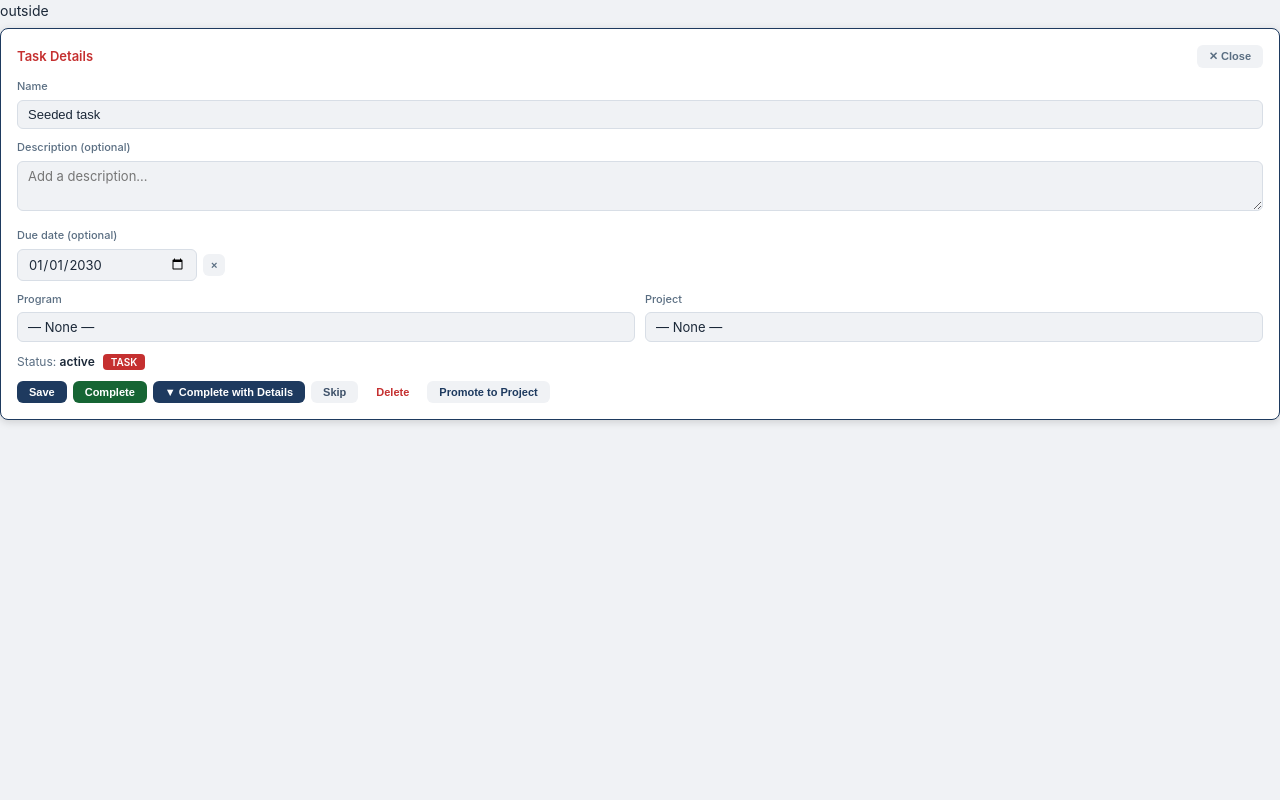
useInlineTask — inline task panel dirty-state close guard (Task 9.14) › Cancel from the confirm dialog keeps the panel open
Expected: the text "Task Details" is shown, [17,46,93,67]
Replace the text in the field named "Task name" with "Seeded task edited": (640, 114) [17,100,1263,129]
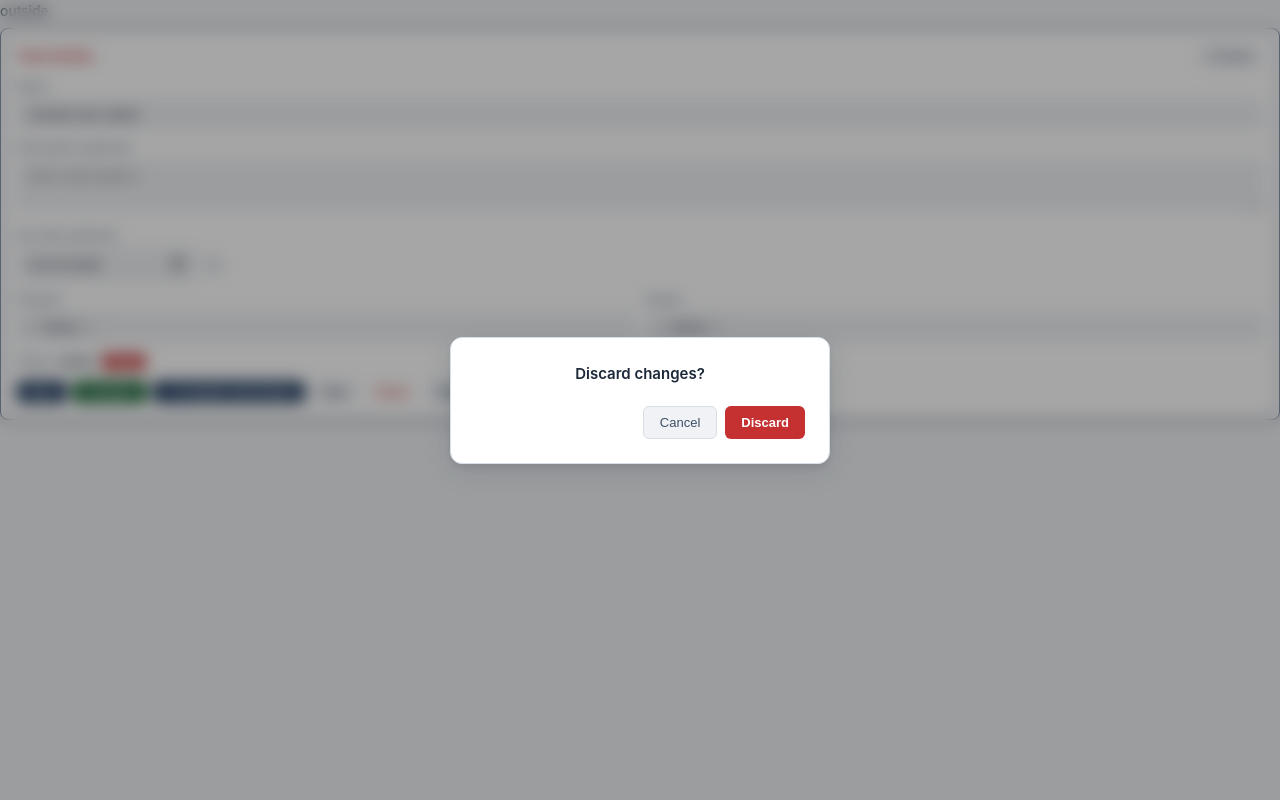
Click the button "Cancel": (680, 422) [643,406,717,438]
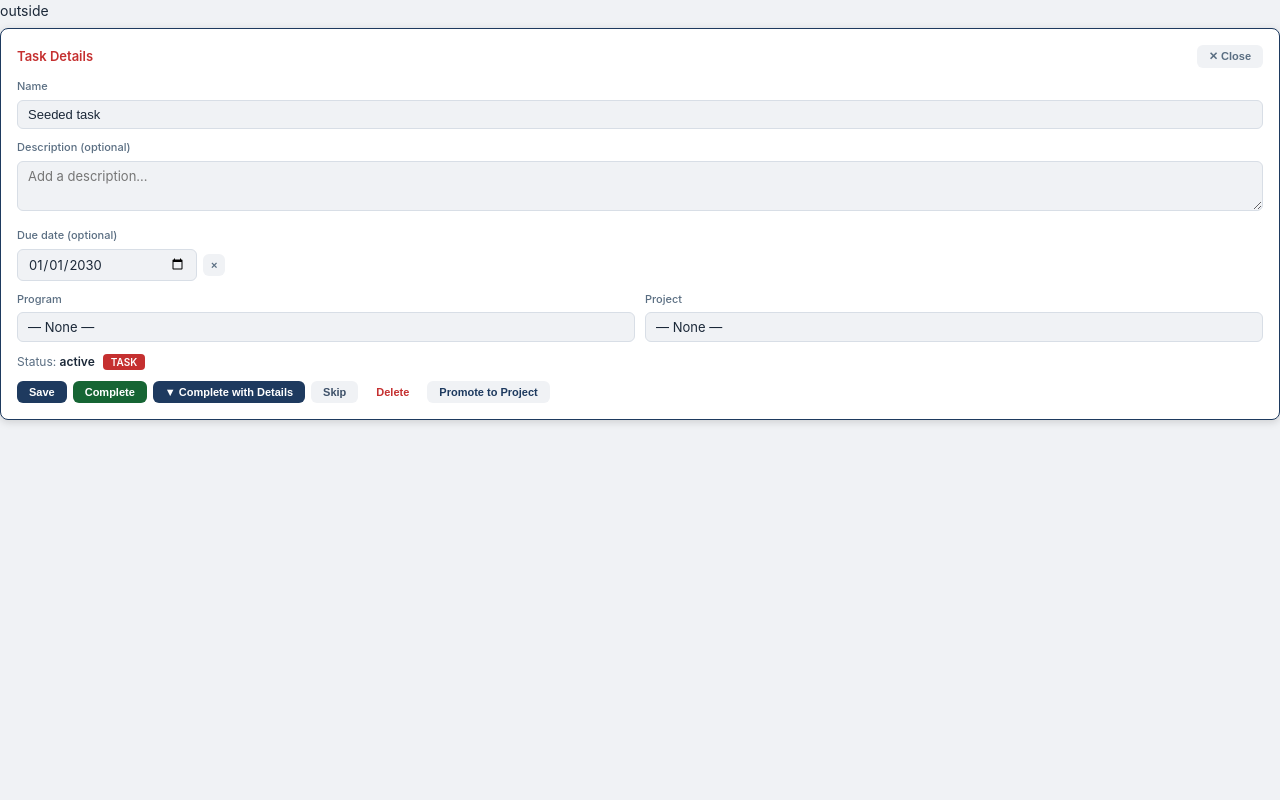
Expected: the text "Task Details" is shown, [17,46,93,67]
Result: the text "Discard changes" is gone
